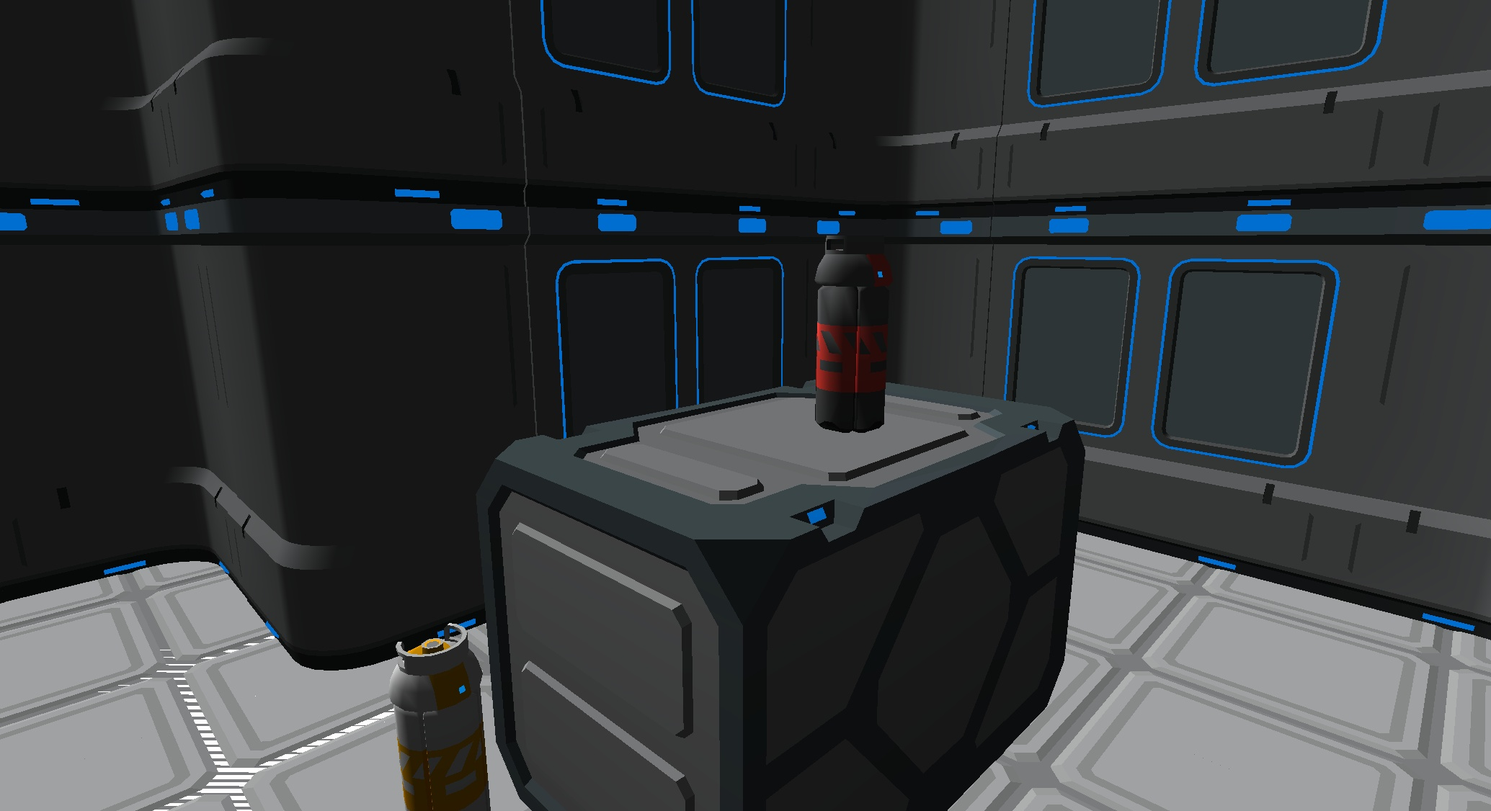red_barrel: (815, 234, 892, 431)
yellow_barrel: (390, 624, 489, 810)
